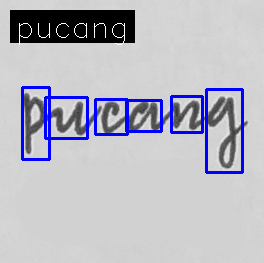a: (125, 98, 159, 136)
c: (99, 100, 121, 136)
g: (205, 92, 238, 171)
n: (169, 97, 201, 132)
p: (20, 91, 50, 156)
u: (52, 98, 85, 136)
